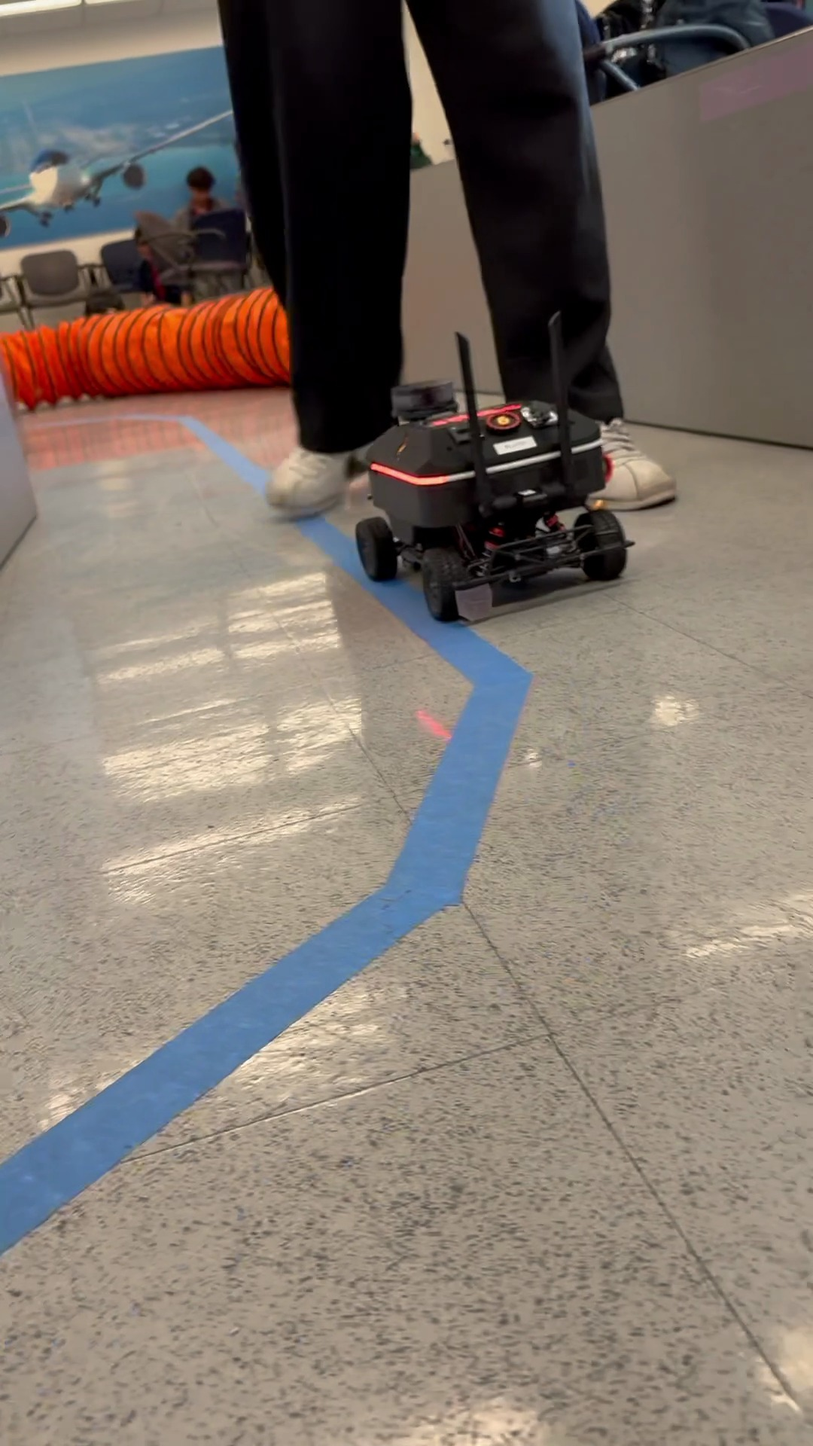racecar: (356, 319, 630, 623)
